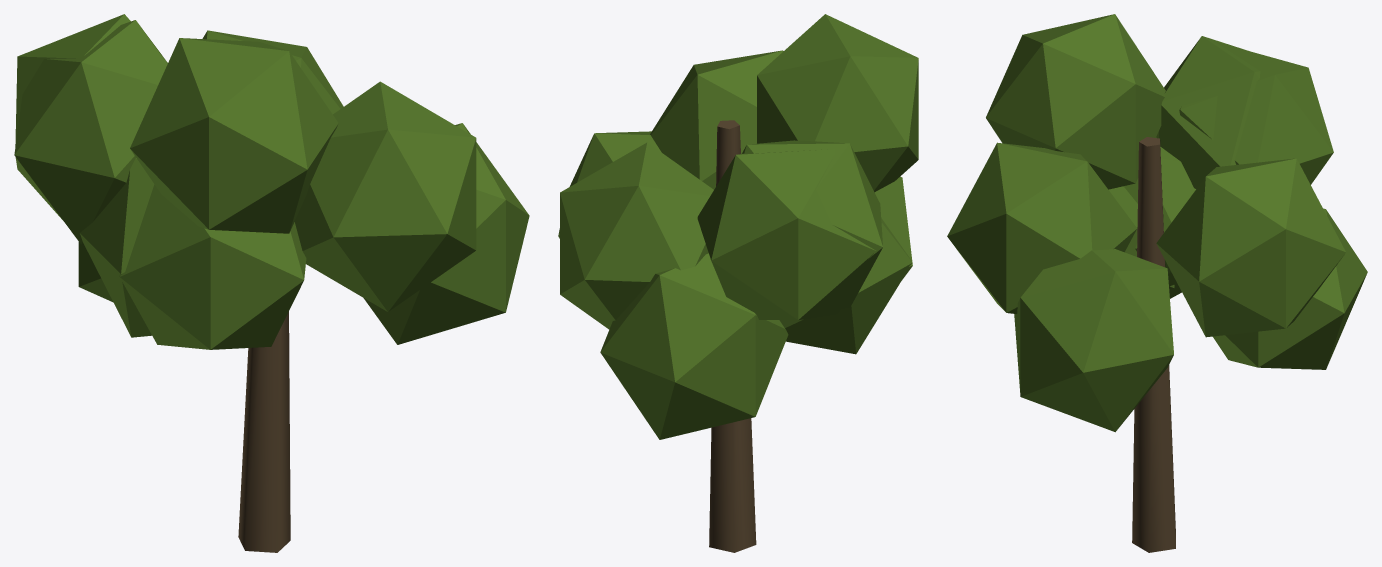
3 views of the same model, side by side, from view 1: azimuth 30°, elevation 25°; view 2: azimuth 150°, elevation 25°; view 3: azimuth 270°, elevation 25° (orthographic). The views are drawn at different scales.
Visible parts, largest first — view 1: oak-leaf; view 2: oak-leaf; view 3: oak-leaf.
Part boxes in pixels (<box>): oak-leaf: <box>14,14,529,552</box>; oak-leaf: <box>558,14,918,552</box>; oak-leaf: <box>947,14,1367,552</box>.
Size of the model in its own units: 7.59 by 9.2 by 7.26.
